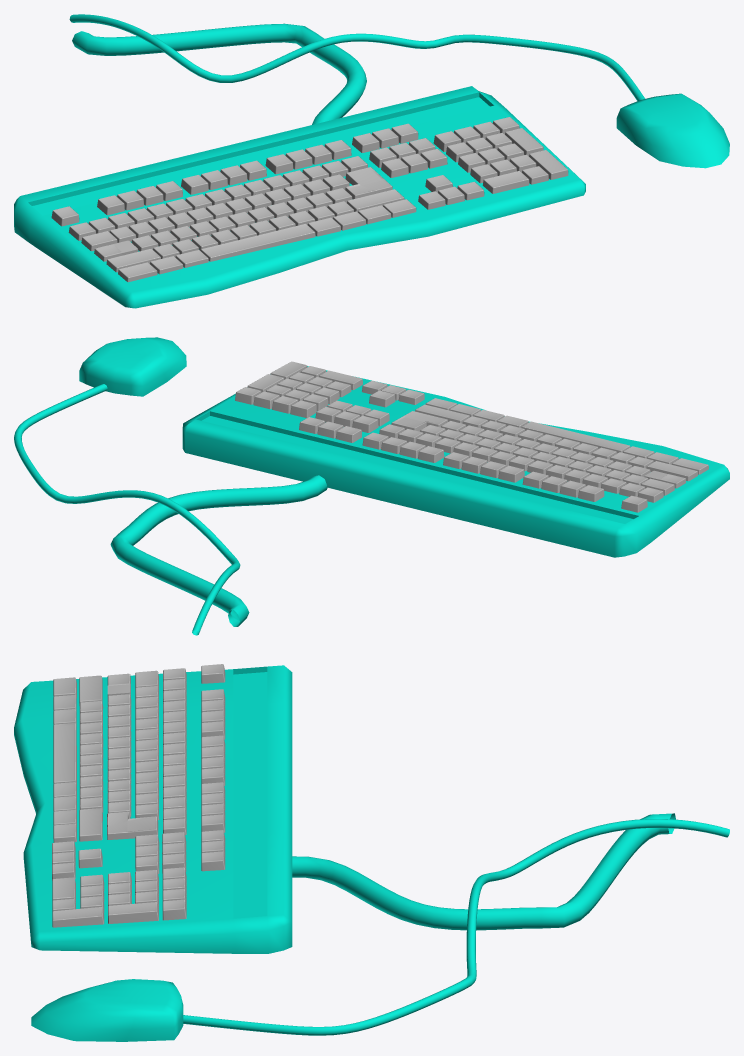
File: mouse n key.fbx
3 views of the same model, one above another, from view 1: azimuth 30°, elevation 25°; view 2: azimuth 150°, elevation 25°; view 3: azimuth 270°, elevation 25° (orthographic). The views are drawn at different scales.
Visible parts, largest first — view 1: base, cable, F_s, mouse, numpad, mouse_cable, spacebar_ect_, numbers, bottem_row, top_row, middle_row, options (+2 smaller); view 2: base, cable, F_s, mouse, numpad, mouse_cable, numbers, bottem_row, spacebar_ect_, top_row, middle_row, options (+2 smaller); view 3: base, cable, mouse, mouse_cable, numpad, F_s, bottem_row, numbers, spacebar_ect_, top_row, middle_row, options (+2 smaller).
Part boxes in pixels (box(x1,y1,x2,y2)): base: box(14, 86, 585, 308); cable: box(72, 23, 366, 124); F_s: box(51, 123, 418, 226); mouse: box(616, 93, 729, 168); numpad: box(433, 117, 568, 193); mouse_cable: box(69, 14, 645, 100); spacebar_ect_: box(118, 199, 416, 282); numbers: box(68, 156, 367, 240); bottem_row: box(106, 189, 404, 272); top_row: box(81, 174, 349, 251); middle_row: box(94, 188, 352, 261); options: box(369, 138, 447, 177); base: box(182, 366, 729, 557); cable: box(110, 475, 327, 626); F_s: box(299, 417, 647, 512); mouse: box(79, 337, 186, 396); numpad: box(235, 361, 362, 418); mouse_cable: box(14, 384, 240, 635); numbers: box(379, 424, 663, 502); bottem_row: box(415, 404, 697, 481); spacebar_ect_: box(425, 398, 708, 474); top_row: box(420, 425, 674, 495); middle_row: box(441, 421, 686, 488); options: box(315, 400, 389, 432); base: box(14, 665, 292, 953); cable: box(292, 813, 675, 930); mouse: box(31, 979, 183, 1041); mouse_cable: box(183, 819, 729, 1035); numpad: box(52, 867, 186, 927); F_s: box(201, 664, 225, 871); bottem_row: box(79, 675, 103, 841); numbers: box(163, 668, 186, 834); spacebar_ect_: box(53, 677, 76, 842); top_row: box(135, 670, 159, 820); middle_row: box(107, 673, 131, 816); options: box(135, 832, 186, 873).
Bounding box in the file's own units: 2.61 × 0.1581 × 2.26.
